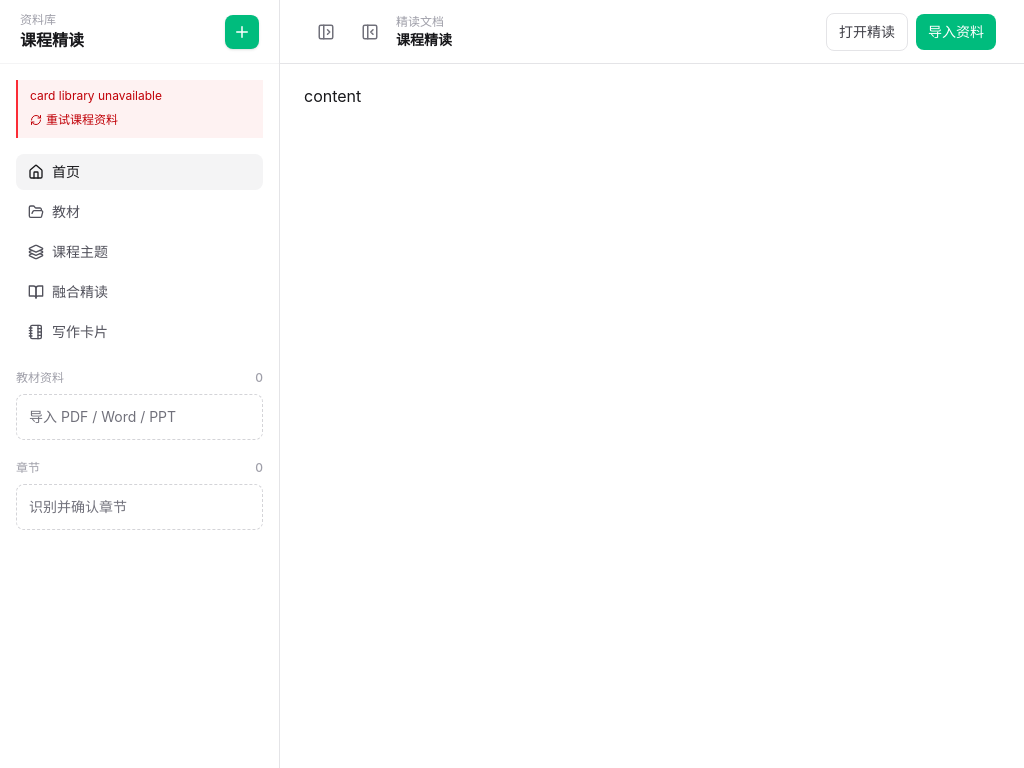
Test: surfaces selected course data load failures and clears the error after retry
Check: the text "card library unavailable" is shown, box [30,88,162,103]
Click the button "重试课程资料": (74, 120) [30,112,118,128]
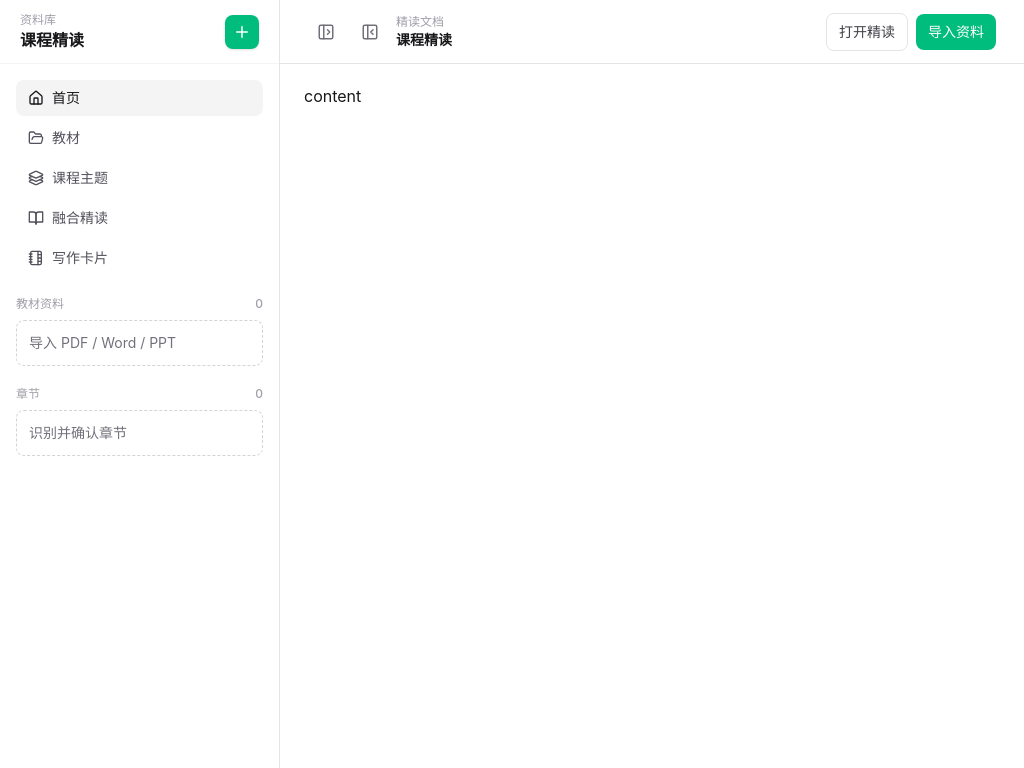
Check: the text "card library unavailable" is gone
